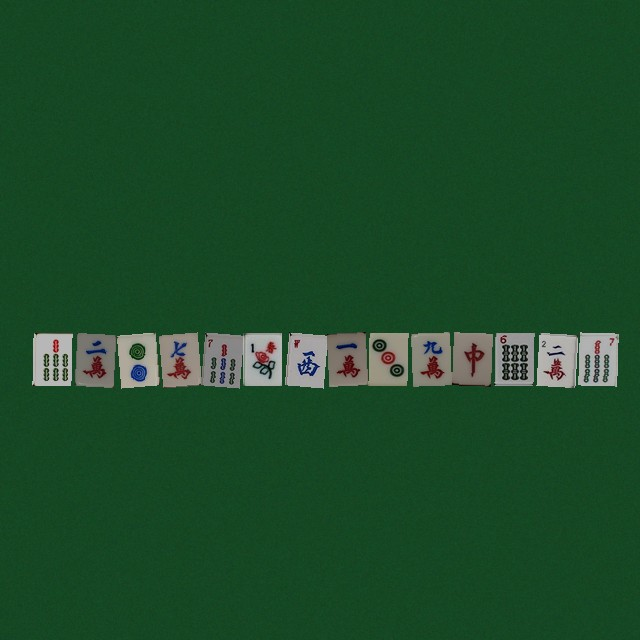tile: (32, 332, 71, 385), (74, 332, 113, 385), (116, 332, 155, 385), (158, 332, 197, 385), (200, 332, 239, 385), (242, 332, 281, 385), (284, 332, 323, 385), (326, 332, 365, 385), (368, 332, 407, 385), (410, 332, 449, 385), (452, 332, 491, 385), (494, 332, 533, 385), (536, 332, 575, 385), (578, 332, 617, 385)
